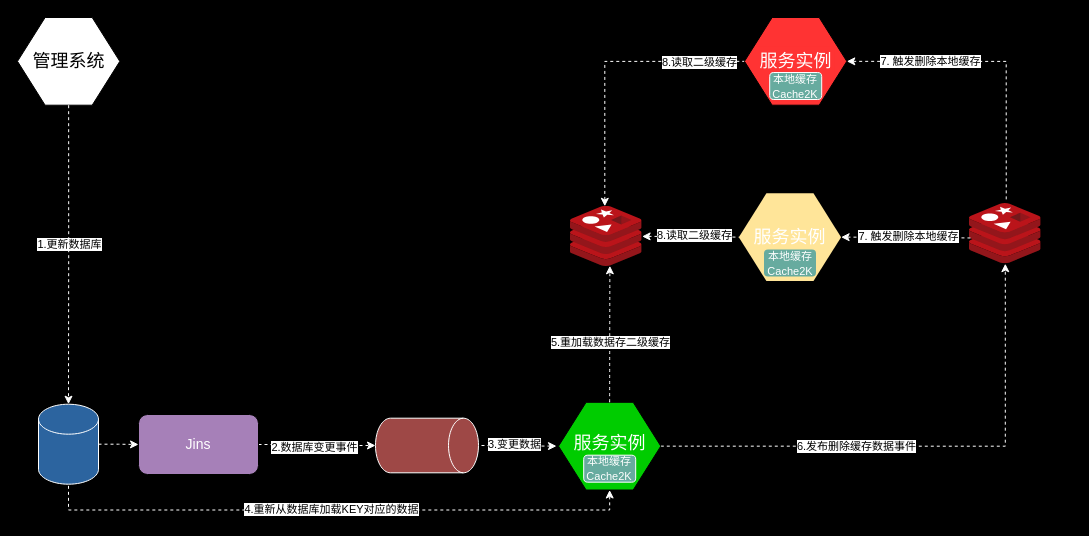
The diagram is 1089 pixels wide and 536 high, and some of its shapes have lost their labels. Each missing label, with the centre of its shape:
MQ: pixel 426 445
MySQL: pixel 68 443
Redis 发布/订阅事件通知: pixel 1005 233
二级缓存Redis: pixel 606 236
